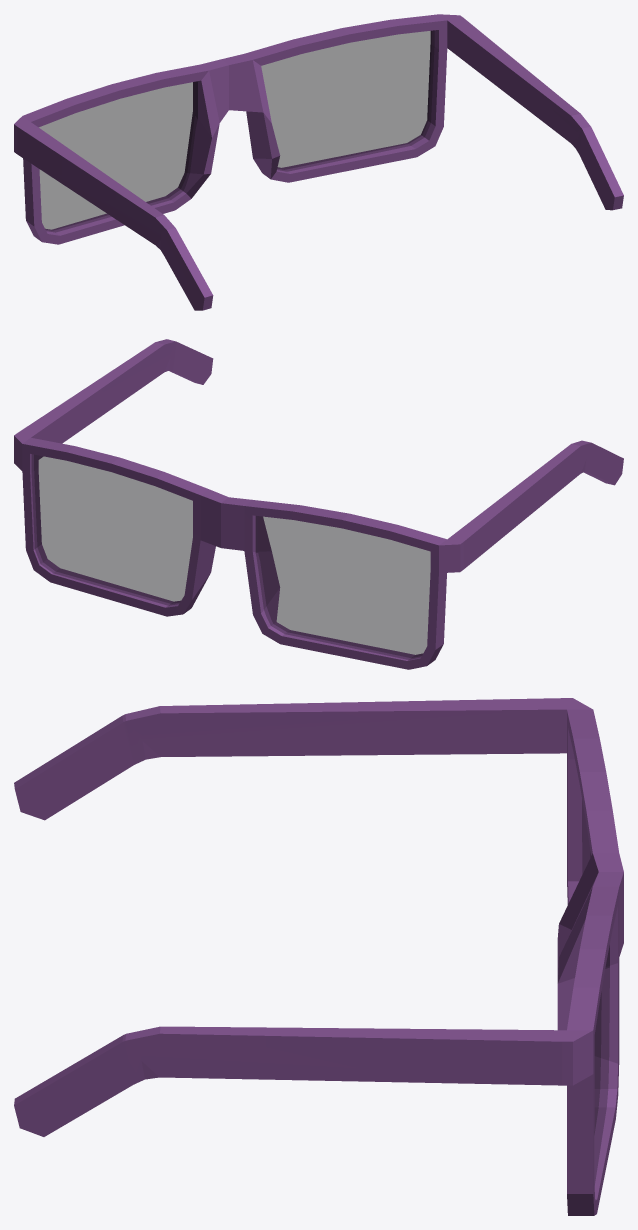
The model's file is gafaspur.fbx.
3 renders of one model, top to bottom at view 1: azimuth 30°, elevation 25°; view 2: azimuth 150°, elevation 25°; view 3: azimuth 270°, elevation 25°, orthographic. The views are drawn at different scales.
Visible parts, largest first — view 1: Sunglasses_Cube.001; view 2: Sunglasses_Cube.001; view 3: Sunglasses_Cube.001.
Part boxes in pixels (x1,y1,x2,y2): Sunglasses_Cube.001: (14,14,623,310); Sunglasses_Cube.001: (14,339,623,669); Sunglasses_Cube.001: (14,698,623,1215).
Size of the model in its own units: 80.79 by 23.61 by 60.61.
